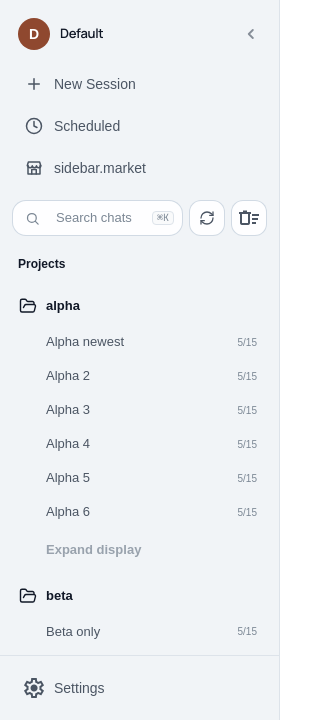
Sidebar › groups sessions by project and expands overflow rows
Check: the text "Projects" is shown, box left=18, top=255, right=65, bottom=273
Check: the text "alpha" is shown, box left=46, top=298, right=80, bottom=313
What coordinates should you click on to do the following:
click the button "Expand display"
I would click on:
 (94, 550)
Its box is left=46, top=536, right=141, bottom=564.
(page scrolled)
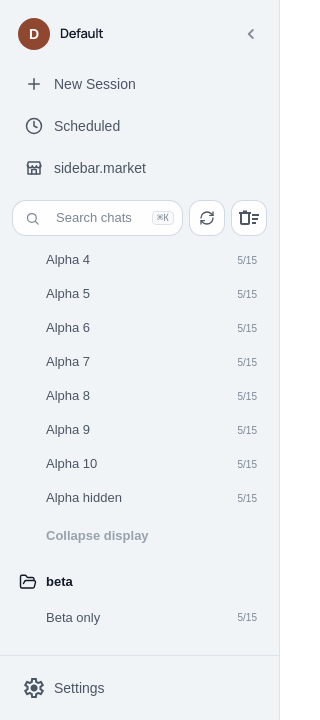
Check: the button "Alpha hidden 5/15" is shown, box left=36, top=482, right=267, bottom=514
Check: the button "Collapse display" is shown, box left=46, top=522, right=149, bottom=550
